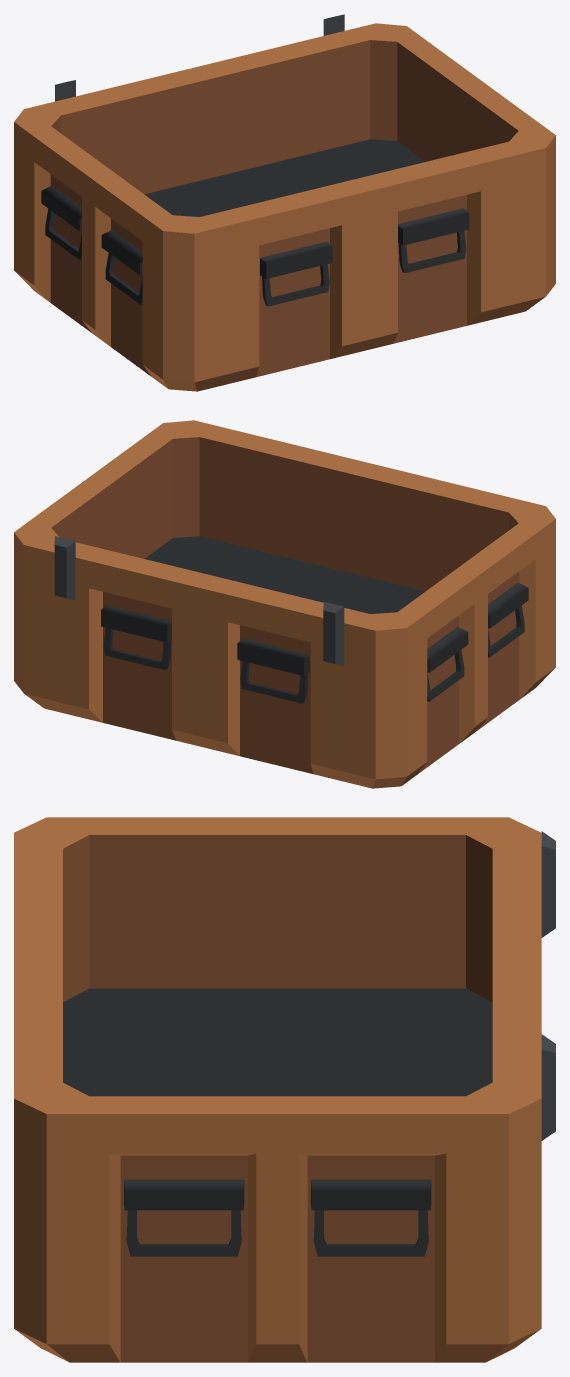
Rendered from SM_Prop_Crate_Plastic_03.glb.
3 views of the same model, one above another, from view 1: azimuth 30°, elevation 25°; view 2: azimuth 150°, elevation 25°; view 3: azimuth 270°, elevation 25° (orthographic). The views are drawn at different scales.
Parts seen in each view (by area): view 1: SM_Prop_Crate_Plastic_03; view 2: SM_Prop_Crate_Plastic_03; view 3: SM_Prop_Crate_Plastic_03.
Part boxes in pixels (left/top/right/bottom): SM_Prop_Crate_Plastic_03: left=14, top=14, right=555, bottom=391; SM_Prop_Crate_Plastic_03: left=14, top=420, right=555, bottom=788; SM_Prop_Crate_Plastic_03: left=14, top=817, right=555, bottom=1362.
Size of the model in its own units: 1.03 by 0.4615 by 0.798.
Materials: 1 (1 with a texture image).
